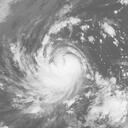cyclone: (19, 40, 87, 109)
